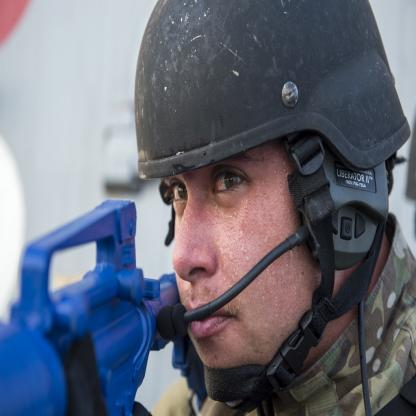Helmet: (141, 10, 397, 338)
